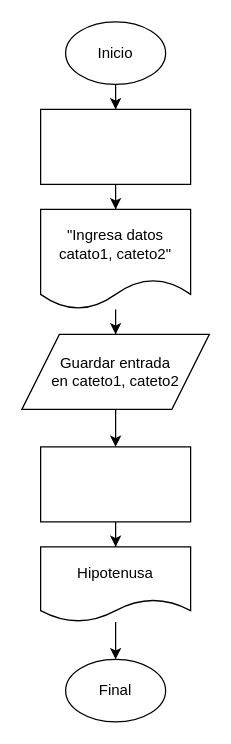
The diagram is 231 pixels wide and 744 high, and some of its shapes have lost their labels. The shapes that lost their labels are listed below. From the top down, each one's centre as x and y in pixels, then its label:
At (115,146): "Decalara variables cateto1, cateto2, hipotenusa".
At (115,484): "hipotenusa = ((cateto1^2)+(cateto2^2))^(1/2)".
